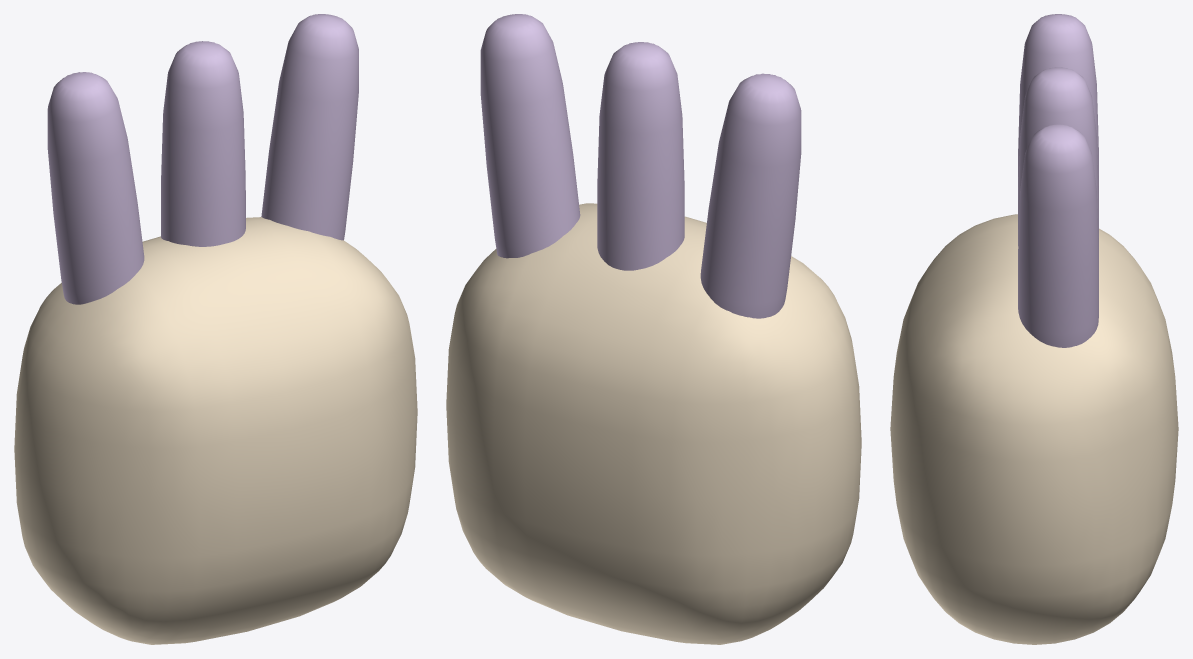
Rendered from knives_c.glb.
The picture shows the model from 3 angles, left to right: view 1: azimuth 30°, elevation 25°; view 2: azimuth 150°, elevation 25°; view 3: azimuth 270°, elevation 25°; orthographic projection. The views are drawn at different scales.
Parts seen in each view (by area): view 1: body; view 2: body; view 3: body.
Part boxes in pixels (x1,y1,x2,y2): body: (14, 14, 417, 644); body: (446, 14, 861, 644); body: (890, 14, 1178, 644).
Bounding box in the file's own units: 0.17 × 0.2494 × 0.12.
